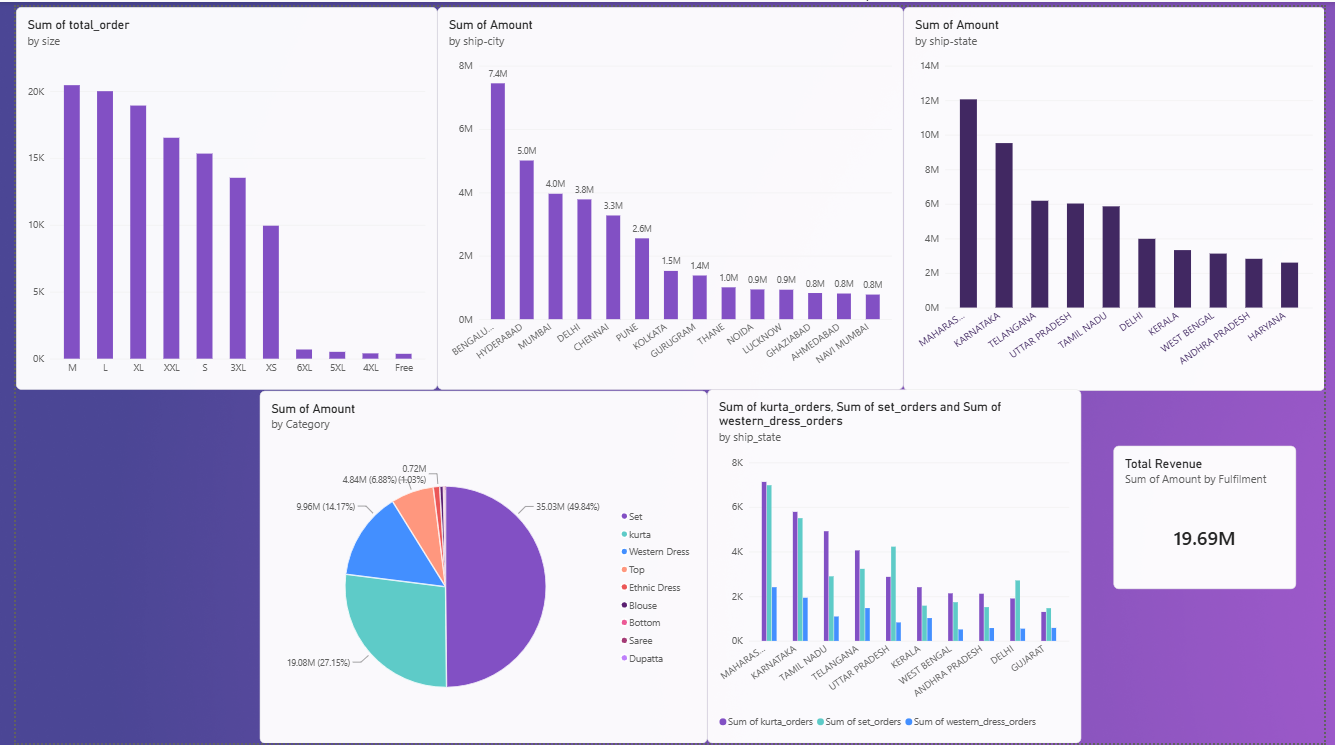

The page's visual inventory and layout, read from the dashboard file:
{"tool":"powerbi","page":{"name":"Page 1","canvas":[1920,1080],"ordinal":0},"visuals":[{"type":"pieChart","fields":{"Category":["cleanAMAZON-sales.Category"],"Y":["Sum(cleanAMAZON-sales.Amount)"]},"box":[357.7,563.1,656.7,517.3],"z":0},{"type":"clusteredColumnChart","fields":{"Category":["cleanAMAZON-sales.ship-state"],"Y":["Sum(cleanAMAZON-sales.Amount)"]},"box":[1302,0,618.4,563.3],"z":1000},{"type":"clusteredColumnChart","fields":{"Category":["sizexorder.size"],"Y":["Sum(sizexorder.total_order)"]},"box":[0,0,618.1,561.3],"z":2000},{"type":"clusteredColumnChart","fields":{"Category":["cleanAMAZON-sales.ship-city"],"Y":["Sum(cleanAMAZON-sales.Amount)"]},"box":[618.1,0,684.2,561.3],"z":3000},{"type":"clusteredColumnChart","fields":{"Category":["state-category.ship_state"],"Y":["Sum(state-category.kurta_orders)","Sum(state-category.set_orders)","Sum(state-category.western_dress_orders)"]},"box":[1014.3,561.3,548.4,519.1],"z":4000},{"type":"kpi","title":"Total Revenue","fields":{"Indicator":["Sum(cleanAMAZON-sales.Amount)"],"TrendLine":["cleanAMAZON-sales.Fulfilment"]},"box":[1610.5,643.8,268.2,210.3],"z":5000}]}

Visuals, with their boxes in screenshot pixels (x1, y1, x2, y2), scaled from the page's 1920x1080 canvas onto the 1335x745 screenshot:
pieChart - cleanAMAZON-sales.Category x Sum(cleanAMAZON-sales.Amount): left=249, top=388, right=705, bottom=744
clusteredColumnChart - cleanAMAZON-sales.ship-state x Sum(cleanAMAZON-sales.Amount): left=905, top=0, right=1334, bottom=389
clusteredColumnChart - sizexorder.size x Sum(sizexorder.total_order): left=0, top=0, right=430, bottom=387
clusteredColumnChart - cleanAMAZON-sales.ship-city x Sum(cleanAMAZON-sales.Amount): left=430, top=0, right=906, bottom=387
clusteredColumnChart - state-category.ship_state x Sum(state-category.kurta_orders): left=705, top=387, right=1087, bottom=744
"Total Revenue" kpi: left=1120, top=444, right=1306, bottom=589
